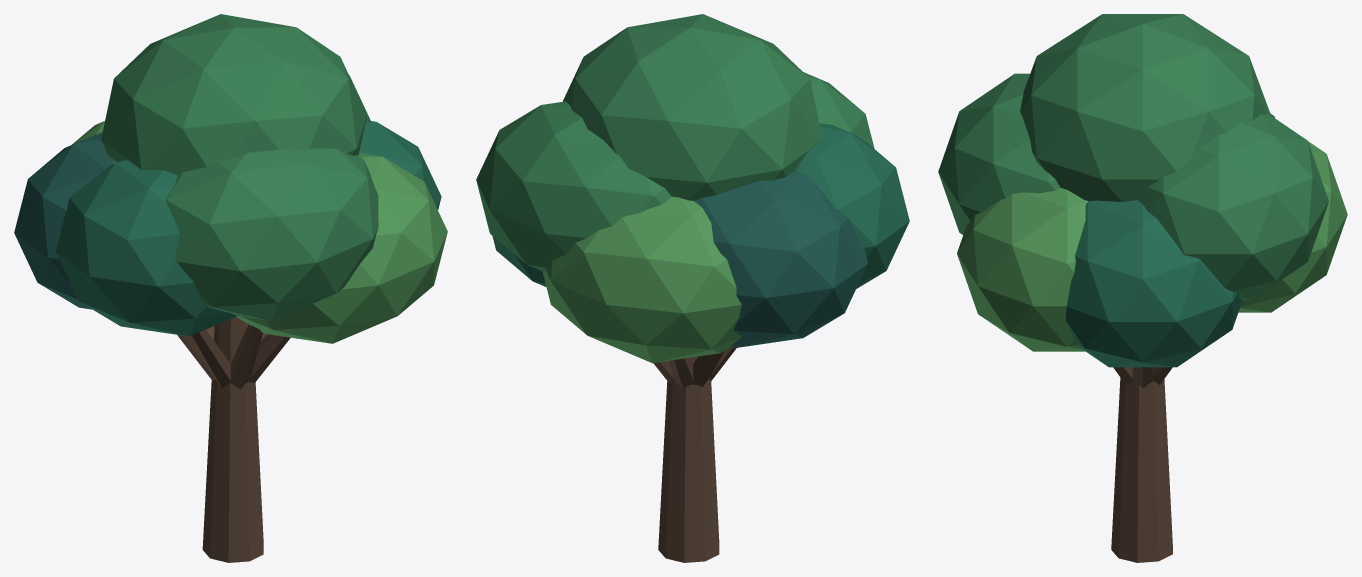
File: tree.glb
The picture shows the model from 3 angles, left to right: view 1: azimuth 30°, elevation 25°; view 2: azimuth 150°, elevation 25°; view 3: azimuth 270°, elevation 25°; orthographic projection.
Parts seen in each view (by area): view 1: tree; view 2: tree; view 3: tree.
Part boxes in pixels (x1,y1,x2,y2): tree: [14, 14, 447, 562]; tree: [476, 14, 909, 562]; tree: [938, 14, 1347, 562].
Bounding box in the file's own units: 3.14 × 4.2 × 2.96.
